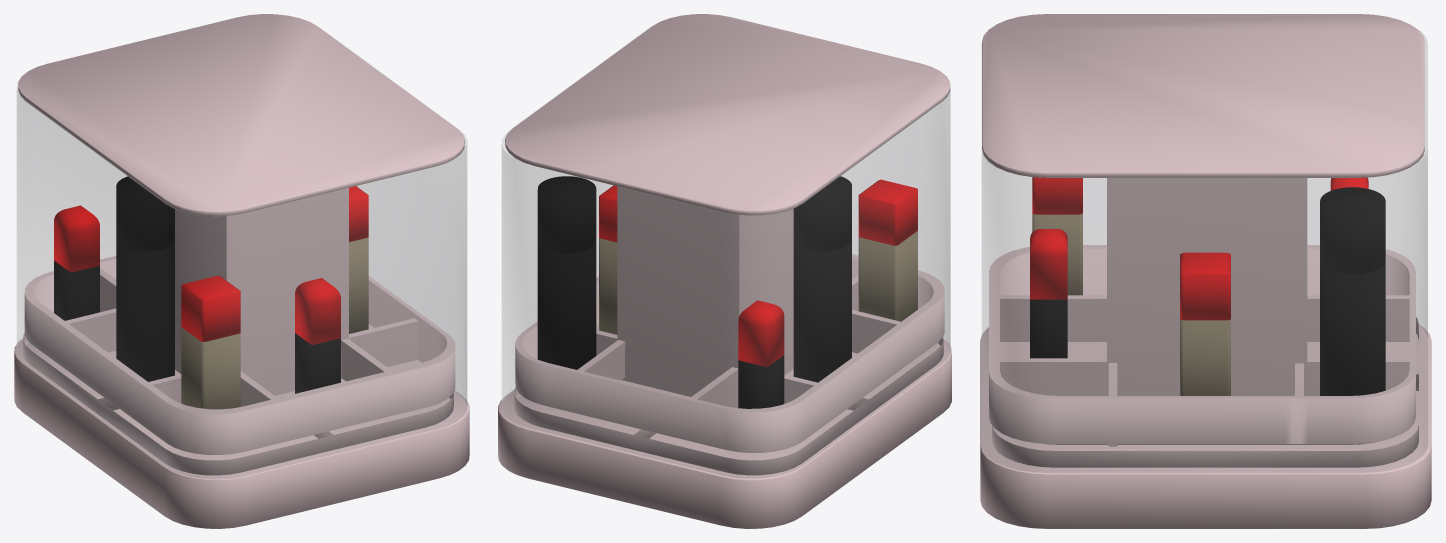
The model's file is makeup.glb.
3 views of the same model, side by side, from view 1: azimuth 30°, elevation 25°; view 2: azimuth 150°, elevation 25°; view 3: azimuth 270°, elevation 25° (orthographic). The views are drawn at different scales.
Parts seen in each view (by area): view 1: transparent, pushtop, Cube, Cube.001, insidecub, Cylinder.001, Cube.002, Plane.001, Cylinder, Plane, Cube.012, Cube.014 (+10 smaller); view 2: transparent, pushtop, Cube, insidecub, Cube.001, Cylinder.001, Cylinder, Cube.002, Plane.001, Plane, Cube.012, Cube.013 (+6 smaller); view 3: transparent, pushtop, insidecub, Cube, Cube.001, Cylinder.001, Cube.002, Cylinder, Plane.003, Cube.006, Plane.002, Cube.004 (+6 smaller).
Boxes of the visible parts, <box> form: transparent: <box>17,30,466,478</box>; pushtop: <box>18,14,464,216</box>; Cube: <box>14,338,469,528</box>; Cube.001: <box>24,256,455,454</box>; insidecub: <box>175,187,348,395</box>; Cylinder.001: <box>116,241,174,381</box>; Cube.002: <box>23,333,453,475</box>; Plane.001: <box>181,327,240,409</box>; Cylinder: <box>116,176,174,251</box>; Plane: <box>181,275,240,341</box>; Cube.012: <box>54,205,99,272</box>; Cube.014: <box>295,278,340,344</box>; transparent: <box>502,34,950,478</box>; pushtop: <box>505,14,950,215</box>; Cube: <box>498,339,951,528</box>; insidecub: <box>617,186,793,396</box>; Cube.001: <box>515,254,944,452</box>; Cylinder.001: <box>537,240,851,382</box>; Cylinder: <box>537,176,851,253</box>; Cube.002: <box>514,336,943,475</box>; Plane.001: <box>858,231,917,321</box>; Plane: <box>858,179,917,245</box>; Cube.012: <box>738,300,784,367</box>; Cube.013: <box>738,355,784,408</box>; transparent: <box>982,30,1427,472</box>; pushtop: <box>982,14,1424,177</box>; insidecub: <box>1107,178,1307,395</box>; Cube: <box>980,324,1431,528</box>; Cube.001: <box>989,245,1415,444</box>; Cylinder.001: <box>1320,261,1385,395</box>; Cube.002: <box>992,317,1418,467</box>; Cylinder: <box>1320,187,1385,274</box>; Plane.003: <box>1180,319,1230,395</box>; Cube.006: <box>1000,358,1106,395</box>; Plane.002: <box>1180,252,1230,320</box>; Cube.004: <box>1000,295,1106,341</box>.
Bounding box in the file's own units: 5.17 × 5.27 × 6.08.
